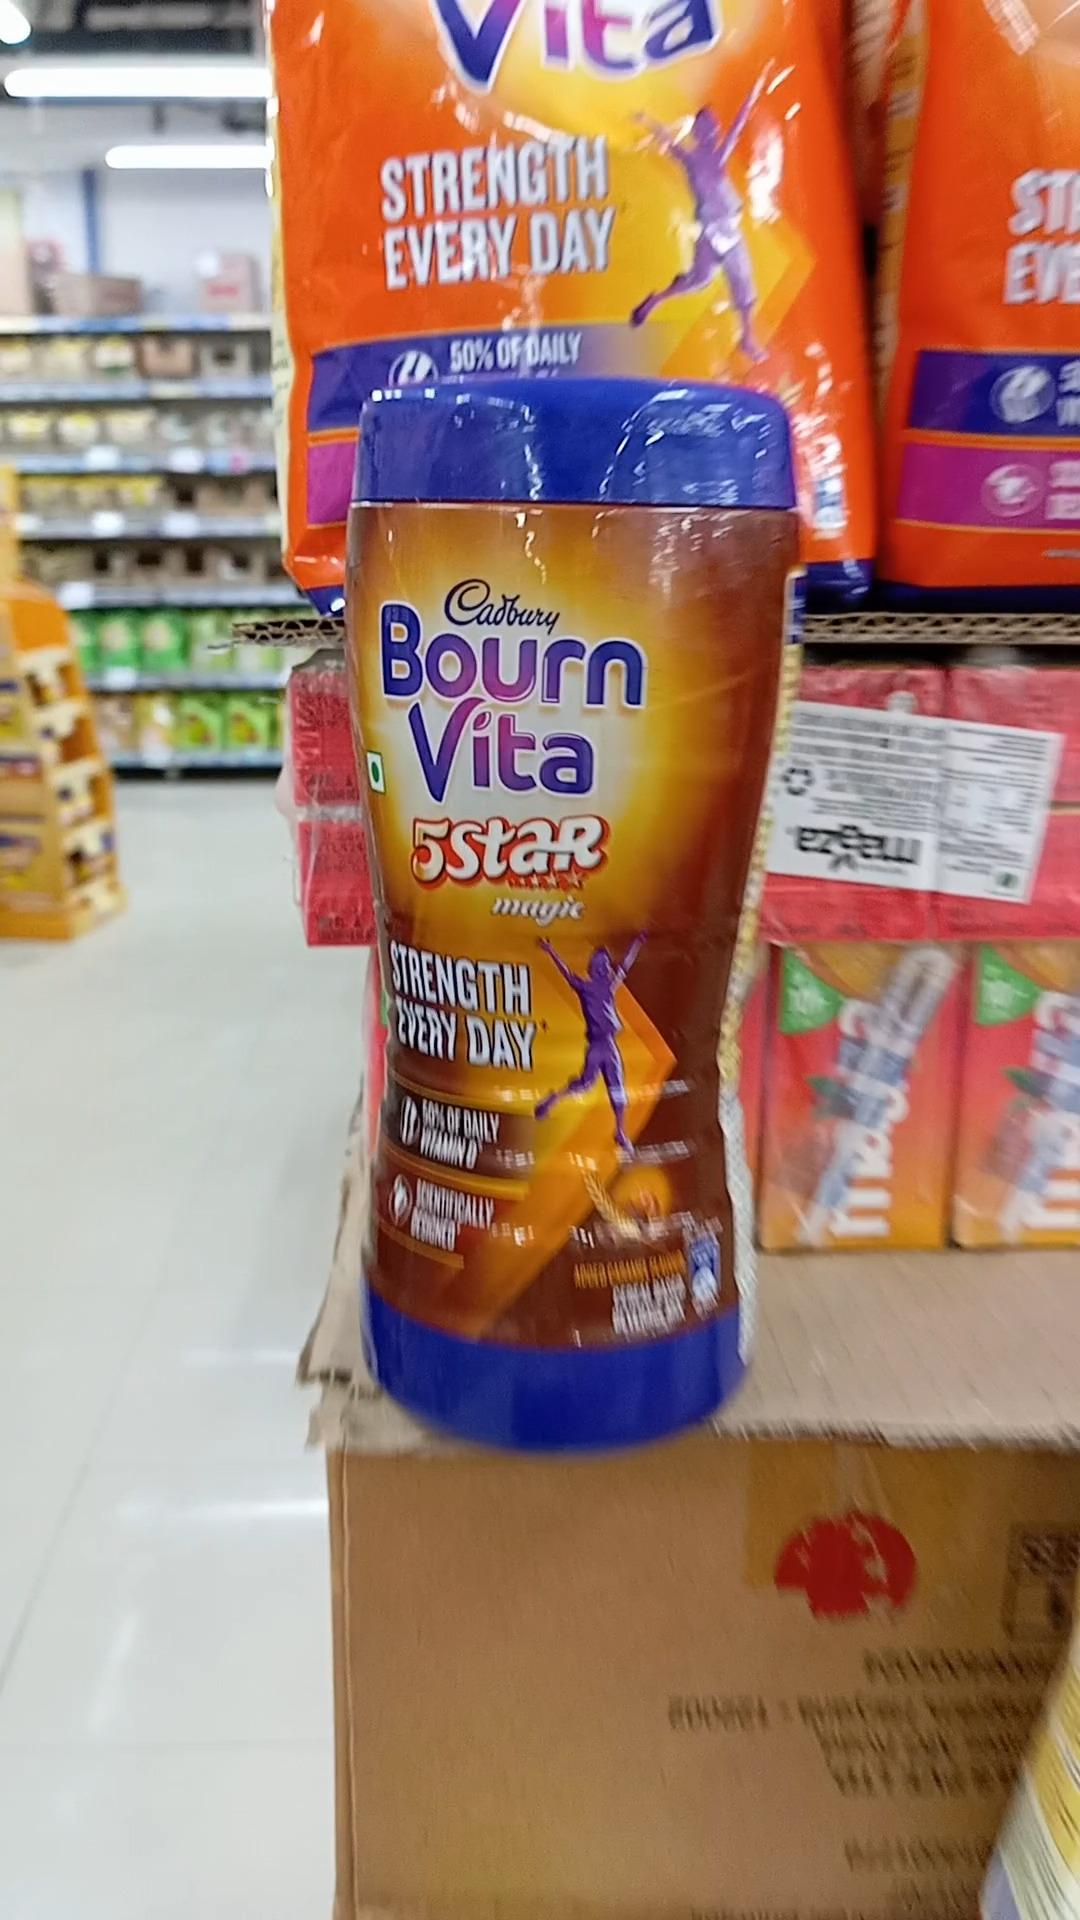BOURN_VITA_FIVE_STAR_MAGIC_500_G_JAR: (356, 380, 757, 1440)
